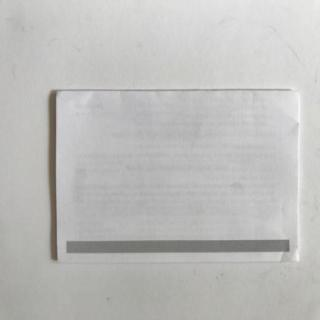Anorganik: (54, 82, 303, 266)
